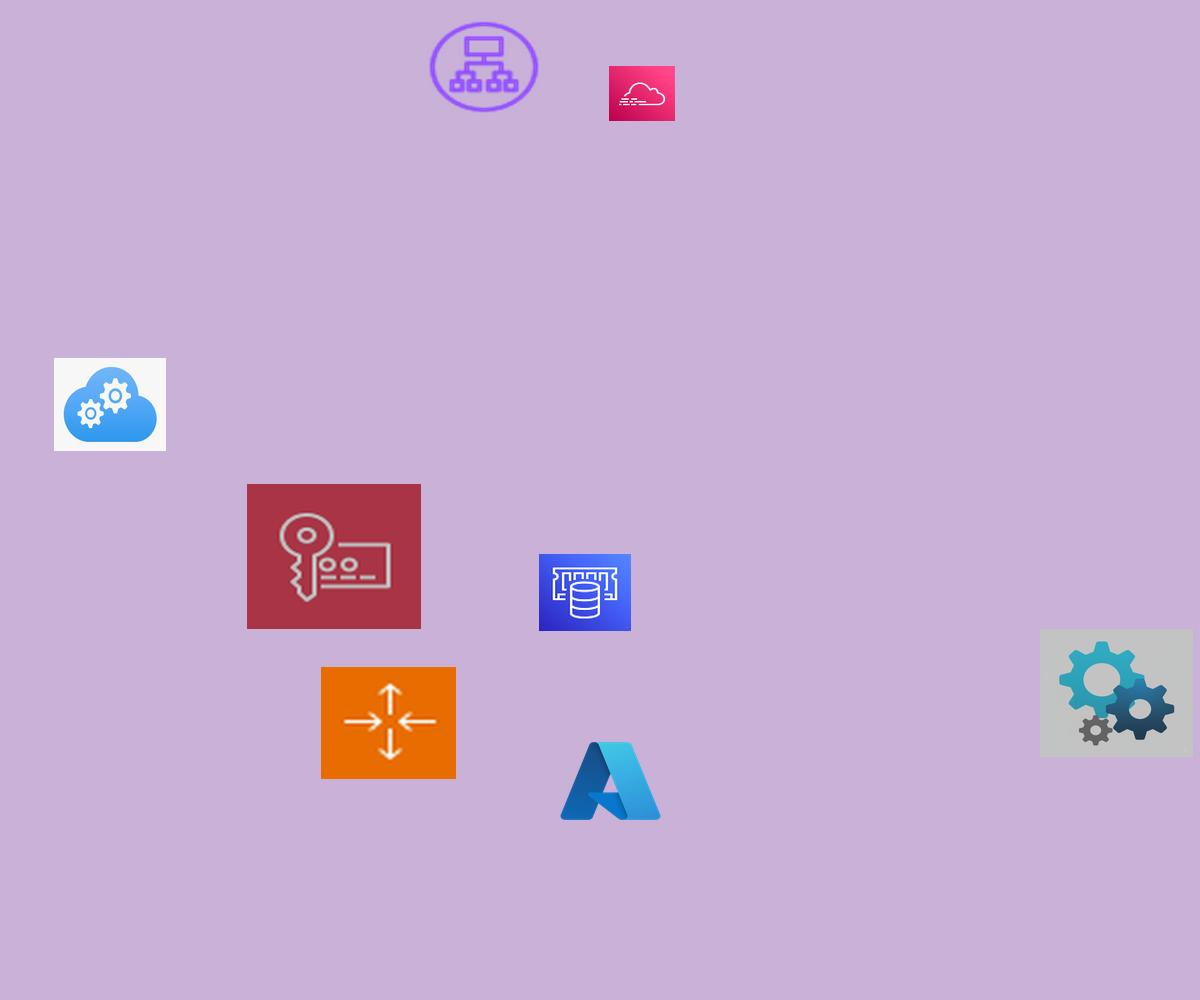AWS-CloudTrail: (609, 66, 675, 121)
AWS-ElastiCache: (539, 554, 631, 631)
AWS-Key-Management-Service: (247, 484, 421, 629)
AWS-Res_Elastic-Load-Balancing_Application-Load-Balancer: (425, 18, 543, 116)
AWS-Scaling-group: (321, 667, 456, 779)
Azure_api: (1040, 629, 1193, 757)
Azure_cloud_services: (54, 358, 166, 451)
Azure_services: (556, 736, 665, 826)
